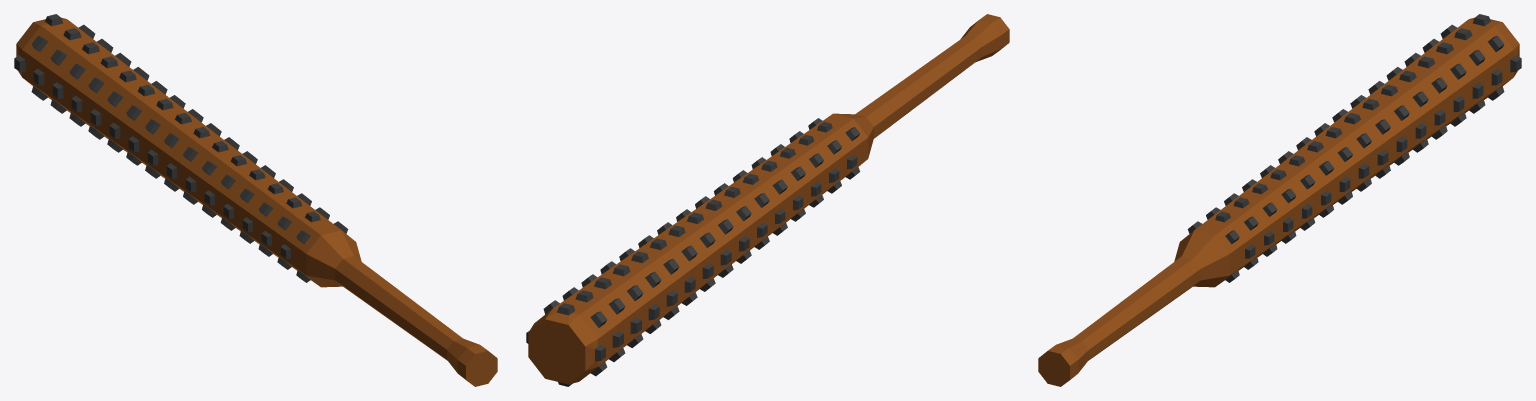
Rendered from Octagonal Kanabou - Textured Low Poly Asian Weapon Pack by Kickin It Studios.fbx.
3 renders of one model, left to right at view 1: azimuth 30°, elevation 25°; view 2: azimuth 150°, elevation 25°; view 3: azimuth 330°, elevation 25°, orthographic.
Parts seen in each view (by area): view 1: Octagonal Kanabou; view 2: Octagonal Kanabou; view 3: Octagonal Kanabou.
Part boxes in pixels (x1=…): Octagonal Kanabou: x1=14, y1=14, x2=497, y2=386; Octagonal Kanabou: x1=526, y1=14, x2=1009, y2=386; Octagonal Kanabou: x1=1038, y1=14, x2=1521, y2=386.
Size of the model in its own units: 78.57 by 78.57 by 797.
